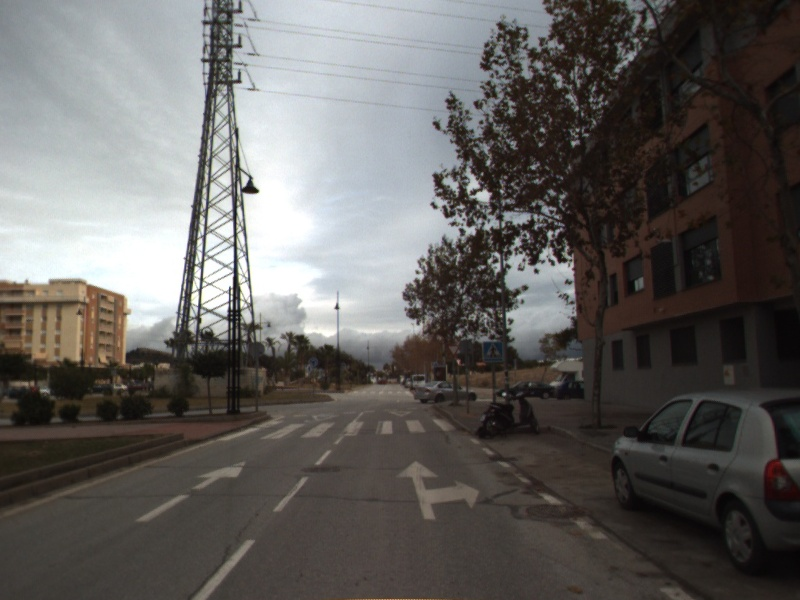STRAIGHT: (134, 459, 248, 524)
STRAIGHT_RIGHT: (394, 459, 481, 521)
